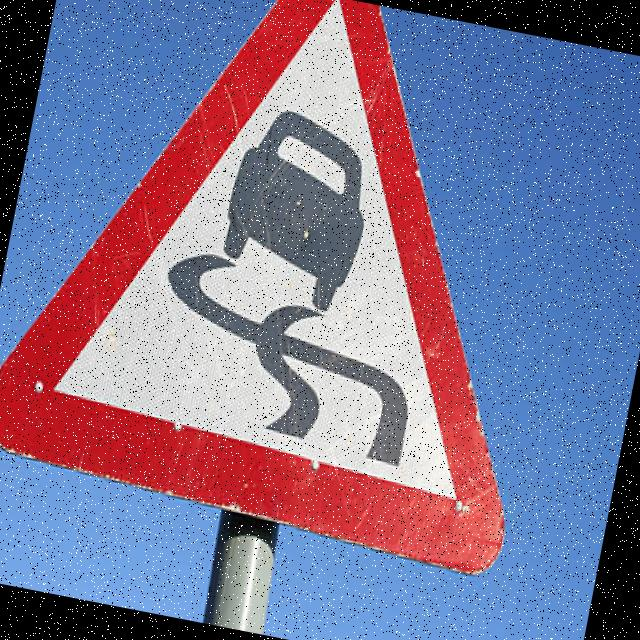road_slippery: (0, 0, 596, 582)
